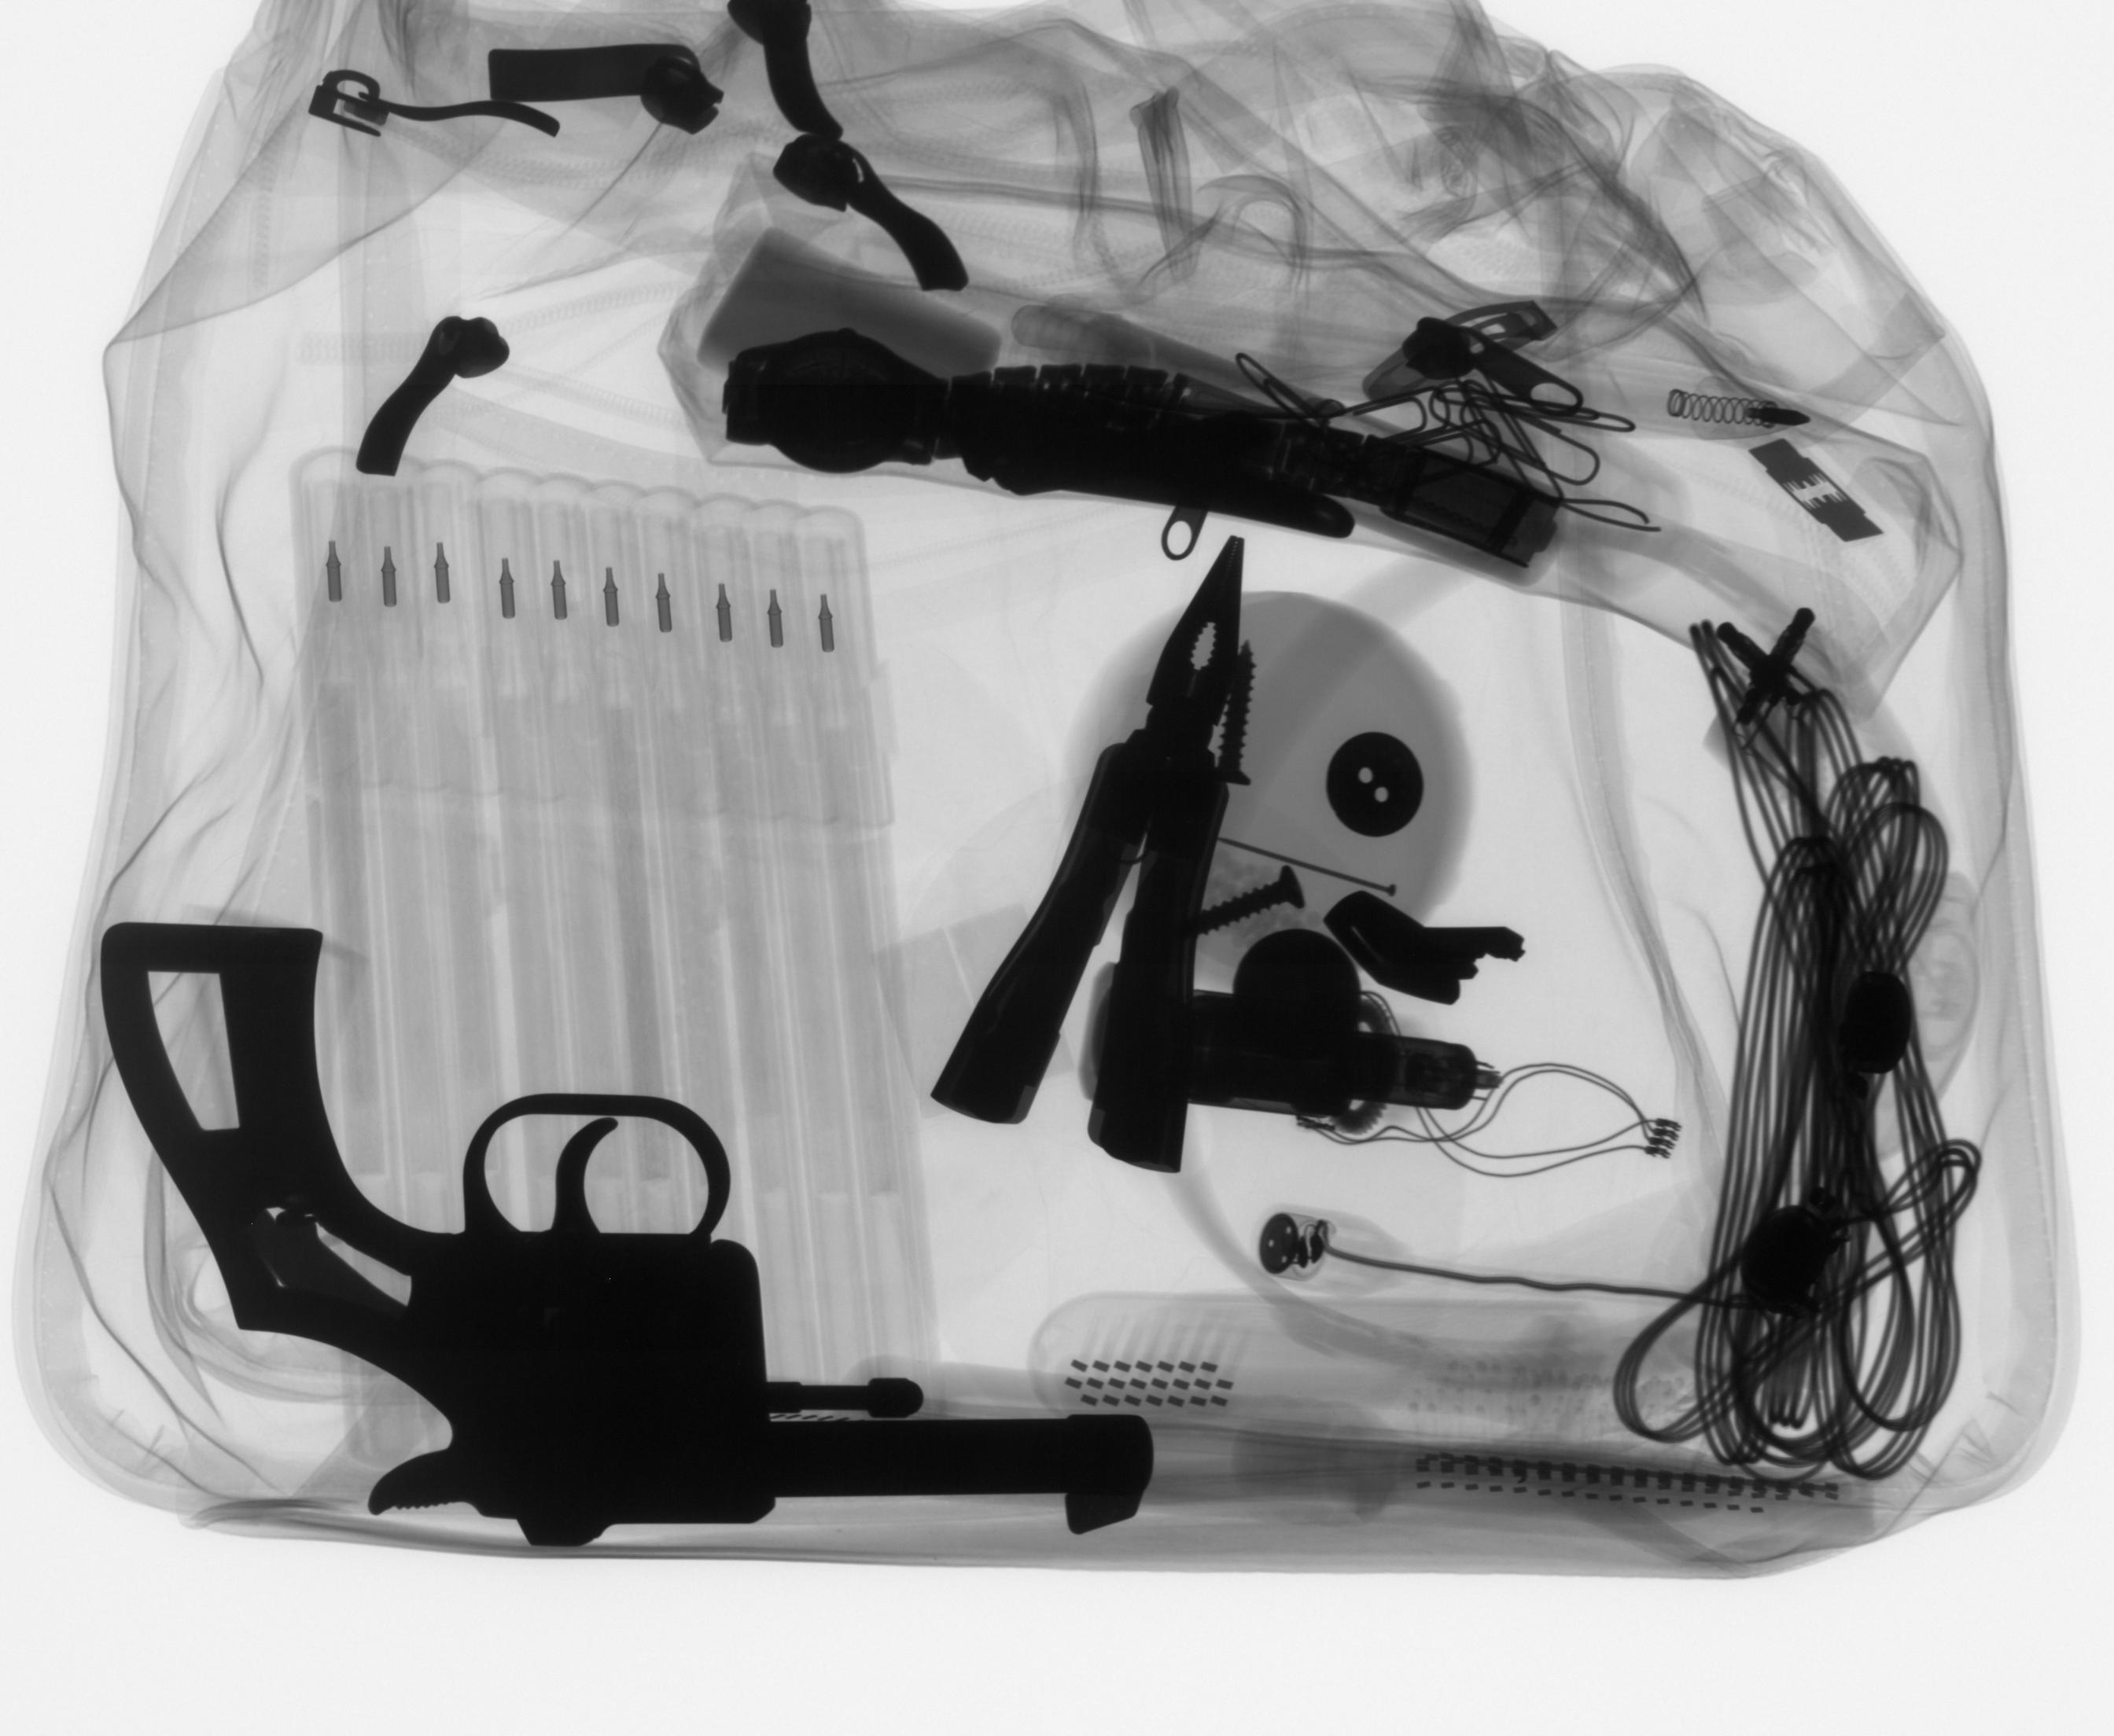Handgun: (91, 914, 1162, 1554)
